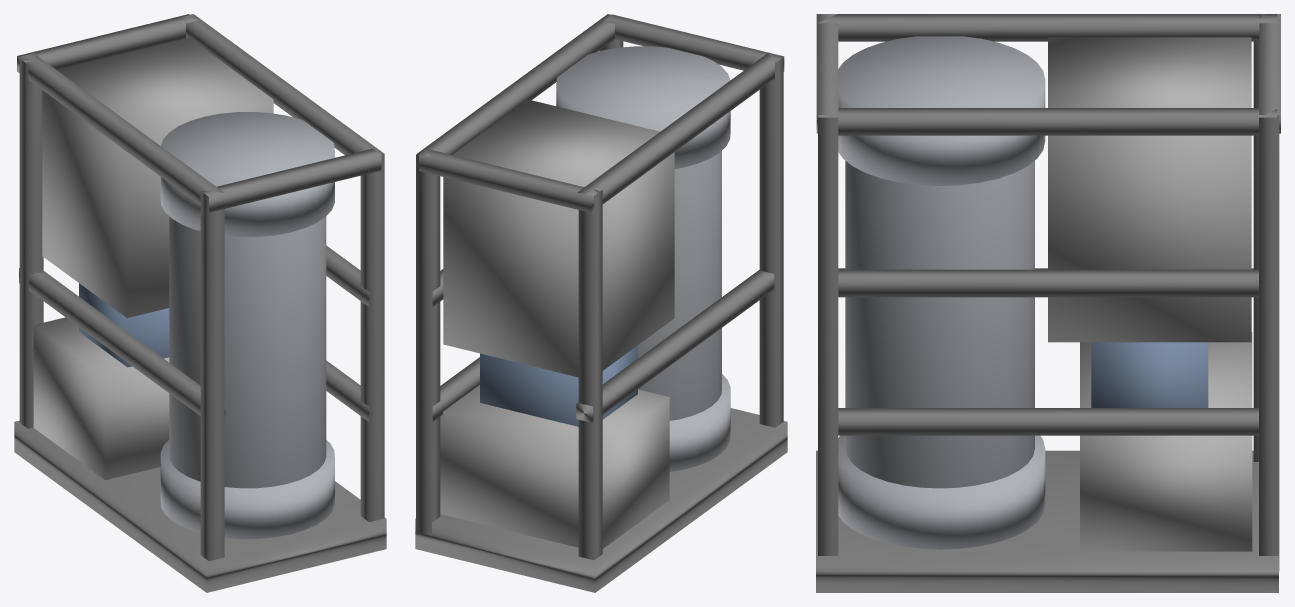
Rendered from Server 1.fbx.
The picture shows the model from 3 angles, left to right: view 1: azimuth 30°, elevation 25°; view 2: azimuth 150°, elevation 25°; view 3: azimuth 270°, elevation 25°; orthographic projection. The views are drawn at different scales.
Parts seen in each view (by area): view 1: PM3D_Plane3D169_002; view 2: PM3D_Plane3D169_002; view 3: PM3D_Plane3D169_002.
Boxes of the visible parts, left/top/right/bottom form: PM3D_Plane3D169_002: left=14, top=14, right=386, bottom=592; PM3D_Plane3D169_002: left=415, top=14, right=787, bottom=592; PM3D_Plane3D169_002: left=816, top=14, right=1280, bottom=592.
Size of the model in its own units: 81.54 by 171 by 152.
